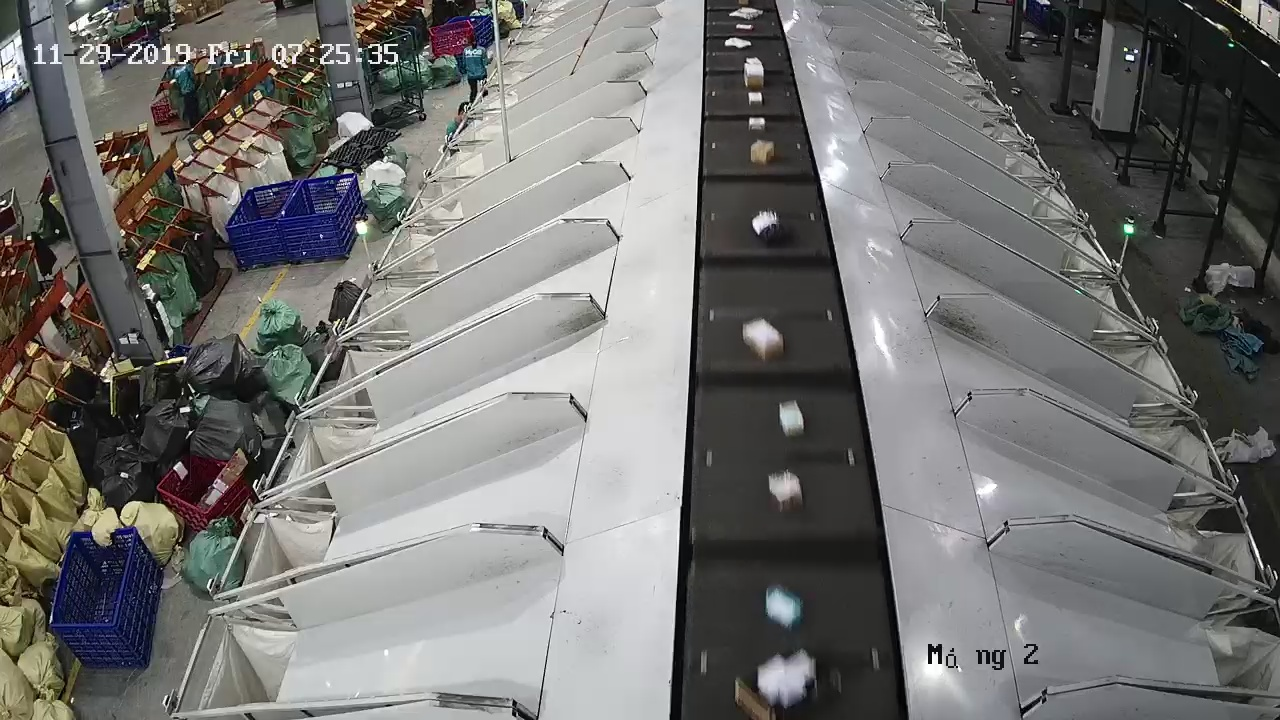parcel: (743, 317, 784, 362), (764, 584, 802, 629), (769, 470, 804, 515), (750, 208, 785, 246), (778, 399, 805, 439)
